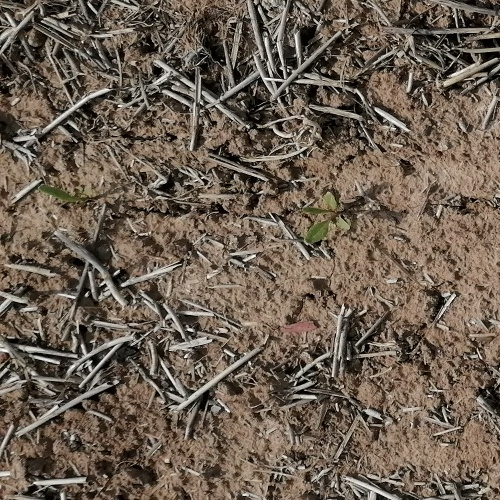beet: (304, 193, 350, 246), (39, 185, 77, 203)
